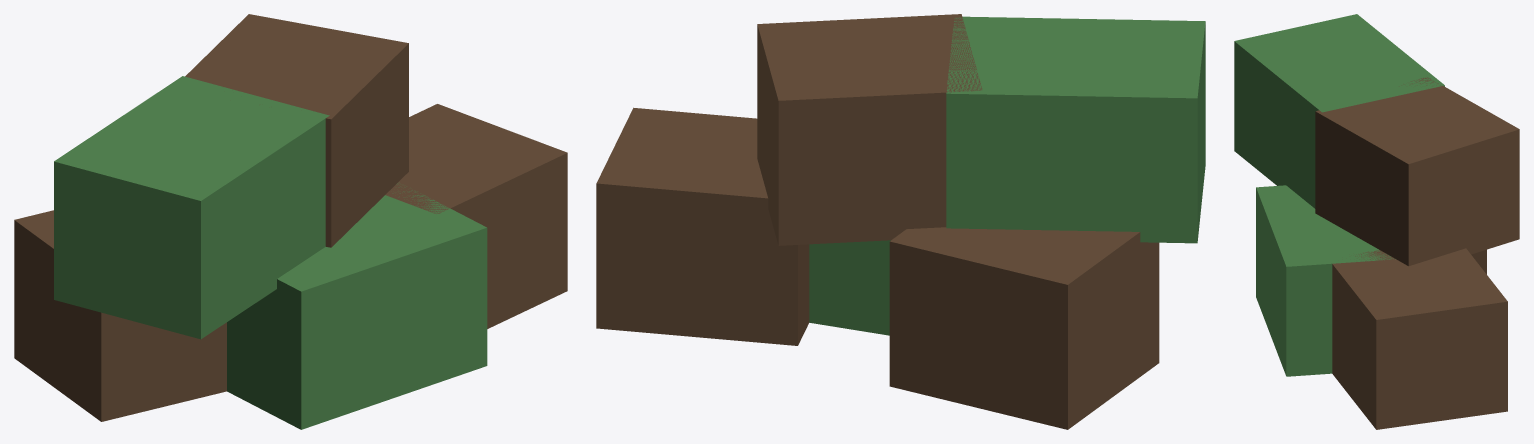
Rendered from relic_cache.glb.
3 renders of one model, left to right at view 1: azimuth 30°, elevation 25°; view 2: azimuth 150°, elevation 25°; view 3: azimuth 270°, elevation 25°, orthographic. The views are drawn at different scales.
Parts seen in each view (by area): view 1: crate_3, crate_1, crate_4, crate_2, crate_0; view 2: crate_3, crate_0, crate_4, crate_2, crate_1; view 3: crate_4, crate_2, crate_3, crate_1.
Boxes of the visible parts, <box> form: crate_3: <box>54,76,329,339</box>; crate_1: <box>227,182,487,429</box>; crate_4: <box>185,14,408,247</box>; crate_2: <box>385,104,567,328</box>; crate_0: <box>14,210,226,421</box>; crate_3: <box>946,16,1205,243</box>; crate_0: <box>889,227,1159,429</box>; crate_4: <box>757,14,982,245</box>; crate_2: <box>596,107,809,345</box>; crate_1: <box>809,240,890,335</box>; crate_4: <box>1315,77,1519,266</box>; crate_2: <box>1332,248,1507,429</box>; crate_3: <box>1234,14,1444,208</box>; crate_1: <box>1256,185,1395,376</box>.
Size of what is drawn, in the model's own units: 2.79 by 1.35 by 1.65.
